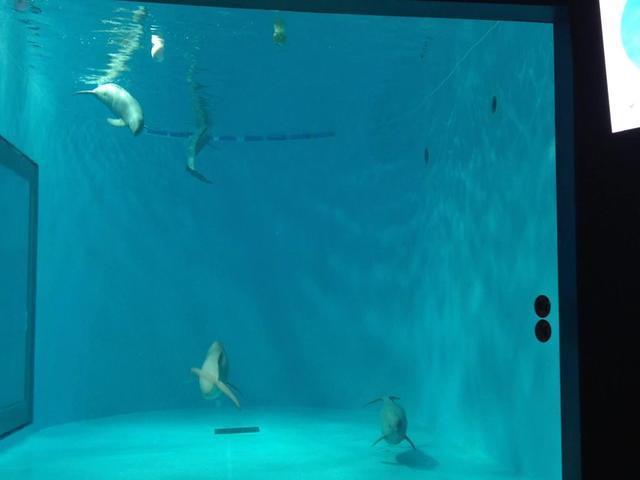fish: (71, 53, 162, 152)
